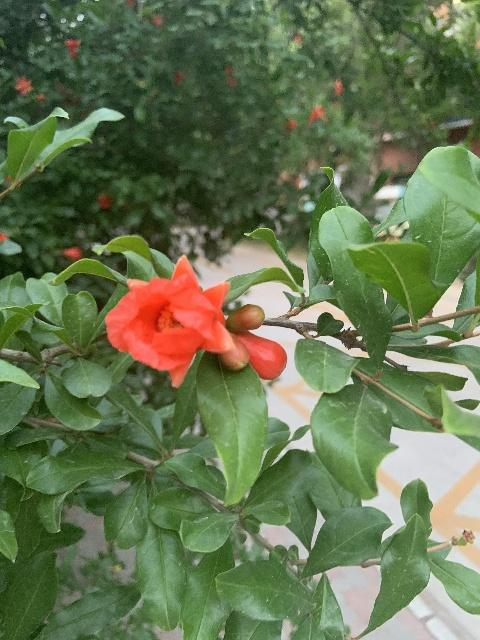bud: (236, 332, 287, 381), (218, 333, 248, 371), (227, 304, 264, 332)
flower: (105, 255, 236, 388), (306, 103, 324, 122), (64, 39, 80, 59)
